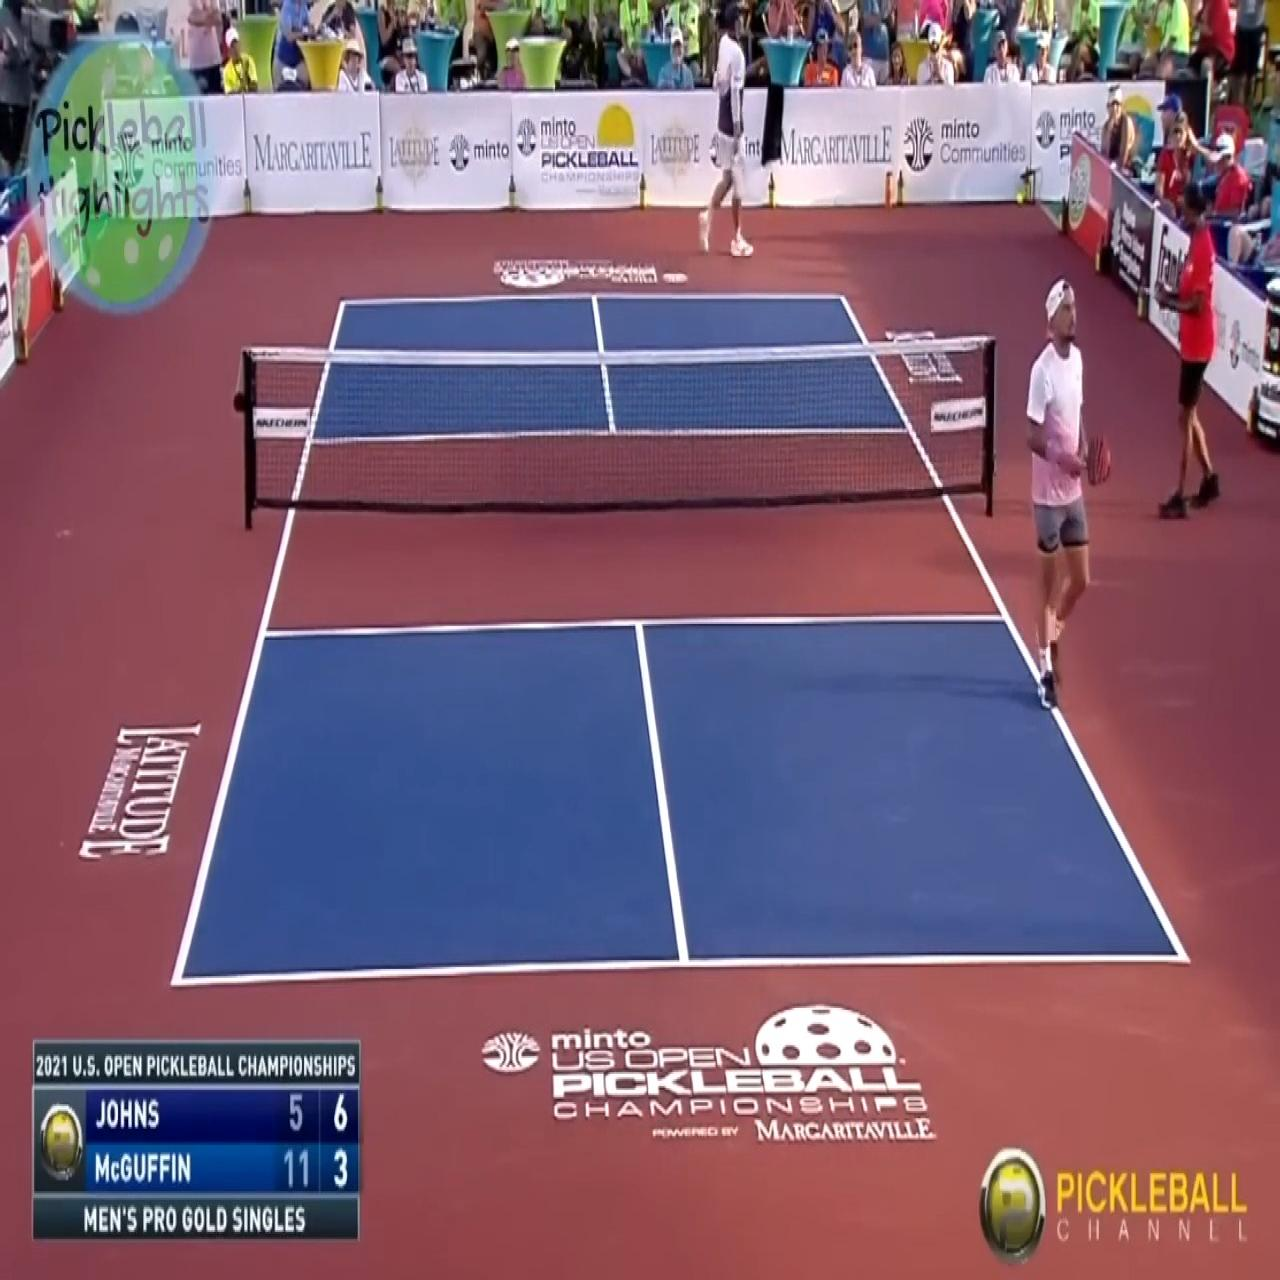pickleball: (1015, 190, 1026, 205)
